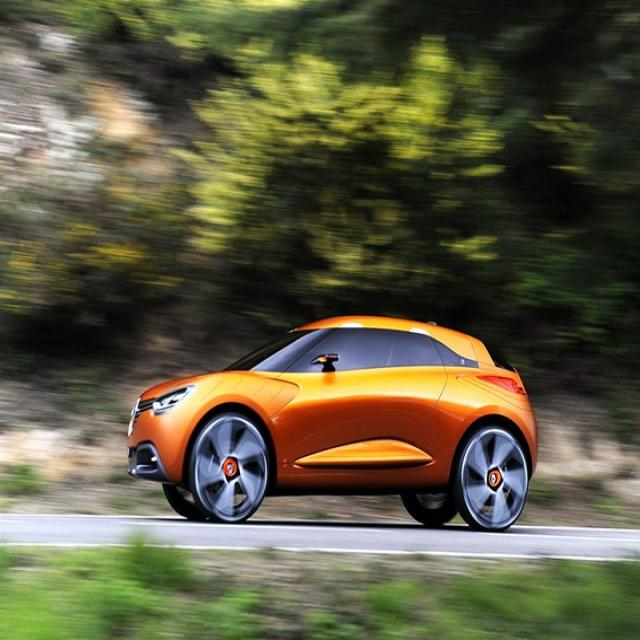back_left_side_light: (480, 369, 531, 393)
front_bumper: (129, 402, 188, 481)
front_left_side_door: (275, 319, 448, 476)
front_left_side_light: (152, 380, 195, 416)
front_left_side_mirror: (317, 351, 343, 368)
wheel: (194, 412, 267, 520), (457, 426, 531, 527), (398, 492, 462, 522)
